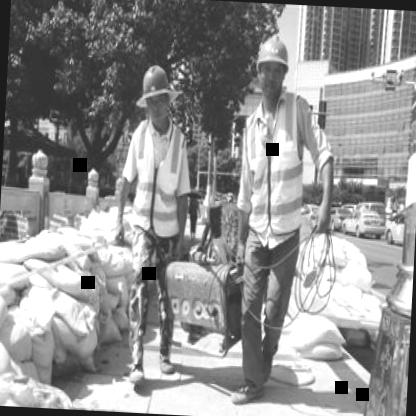helmet: (134, 56, 177, 133), (249, 30, 293, 104)
